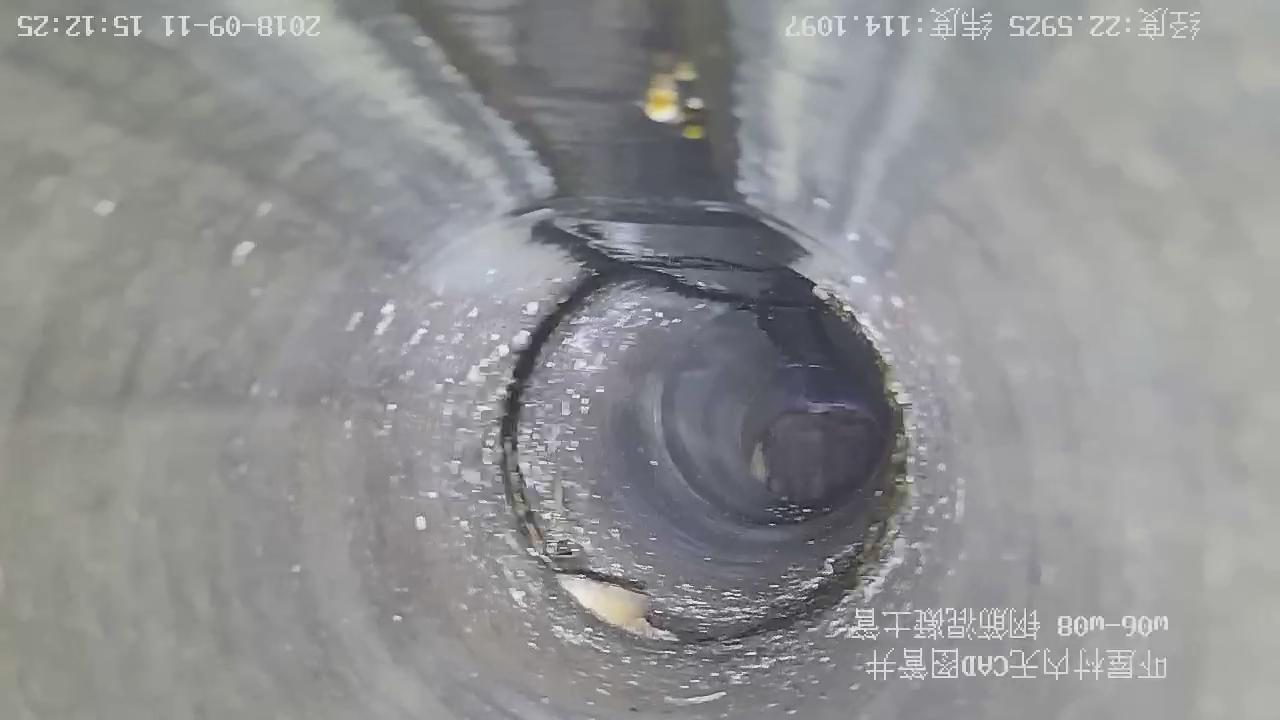ZGAJ: (557, 574, 671, 639)
